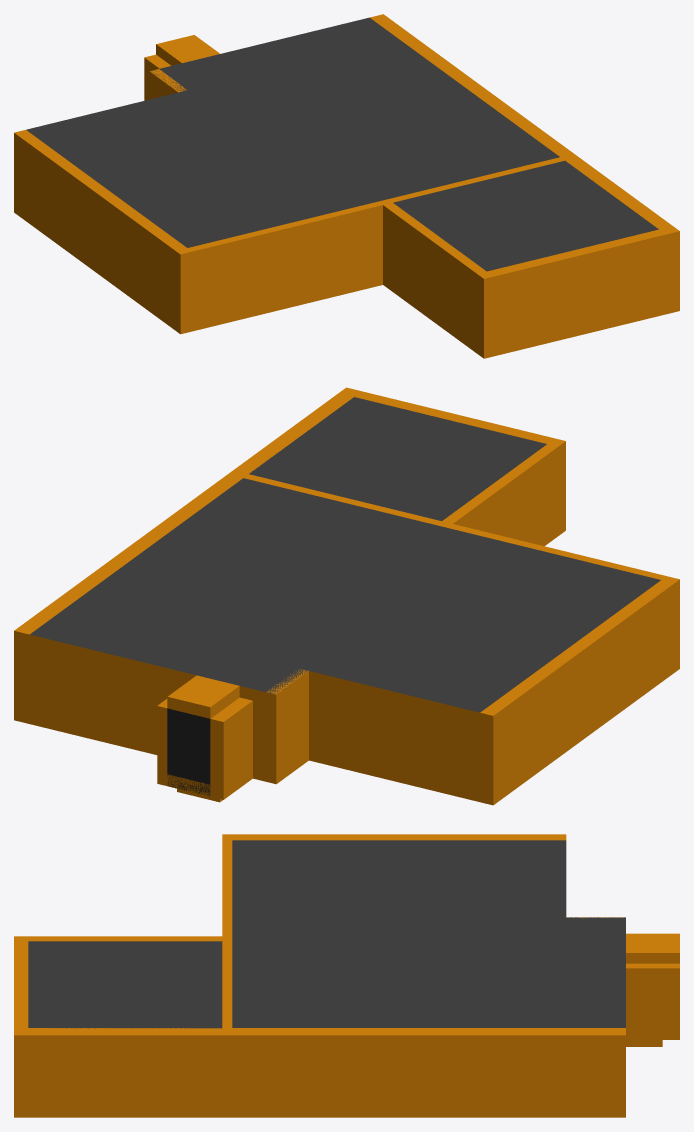
The model's file is Basement.fbx.
3 views of the same model, one above another, from view 1: azimuth 30°, elevation 25°; view 2: azimuth 150°, elevation 25°; view 3: azimuth 270°, elevation 25° (orthographic). The views are drawn at different scales.
Visible parts, largest first — view 1: Roof, Walls; view 2: Roof, Walls; view 3: Roof, Walls.
Boxes of the visible parts, x1,y1,x2,y2 form: Roof: (26, 17, 658, 271); Walls: (14, 14, 679, 358); Roof: (30, 397, 660, 712); Walls: (14, 387, 679, 805); Roof: (28, 840, 625, 1028); Walls: (14, 834, 679, 1117).
Size of the model in its own units: 1045 by 228 by 1464.
